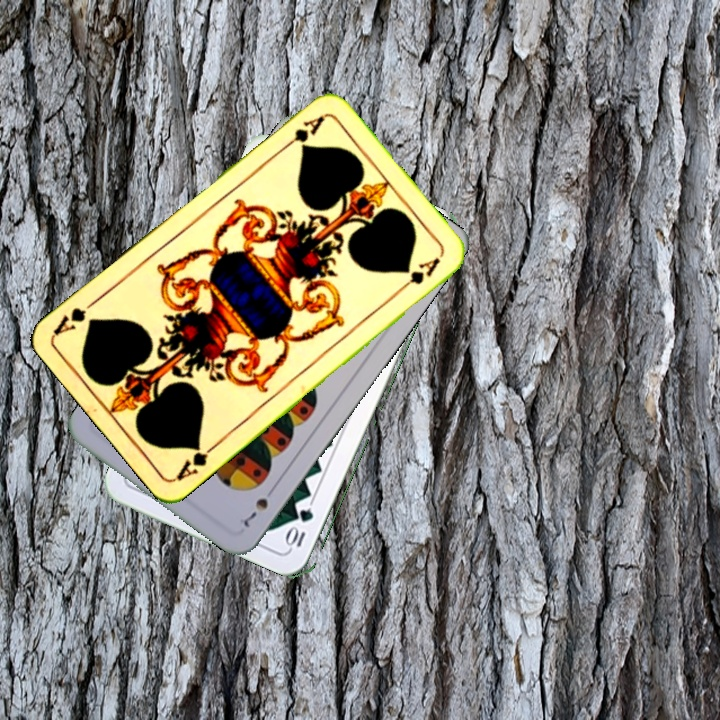G10: (285, 504, 316, 551)
GA: (172, 438, 221, 483), (277, 111, 328, 154)
S7: (239, 482, 279, 530)
